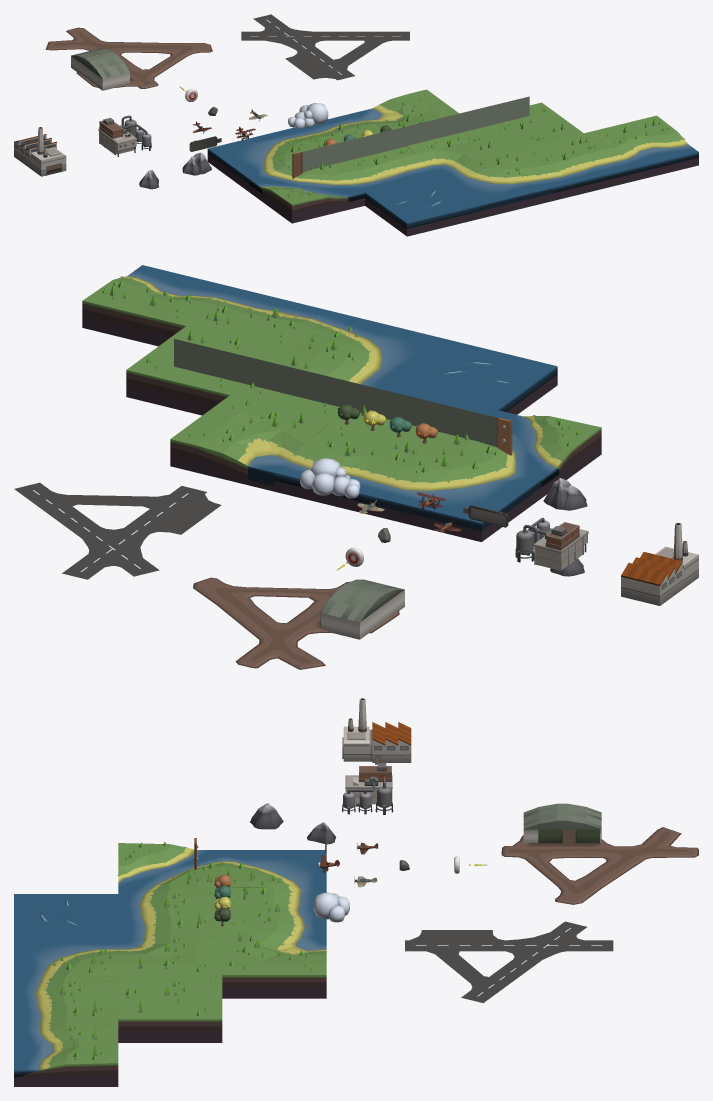
3 renders of one model, top to bottom at view 1: azimuth 30°, elevation 25°; view 2: azimuth 150°, elevation 25°; view 3: azimuth 270°, elevation 25°, orthographic. The views are drawn at different scales.
Visible parts, largest first — view 1: ui-border, t-wwww-1, t-gwgw-1, ct-gwwg-1.001, ct-gwwg-1.002, t-gwww-1, t-gwww-2, Plane.003, Plane, t-gwwg-1, t-ggwg-1, t-gggg-1.001 (+8 smaller); view 2: ui-border, t-gwww-2, t-ggwg-1.001, ct-gwwg-1.002, t-gwwg-1.001, t-wwww-1, t-gwgw-1, t-gggg-1.001, Plane.003, t-gwww-1, ct-gwwg-1.001, Plane (+9 smaller); view 3: t-gggg-1.001, t-ggwg-1.001, ct-gwwg-1.002, Plane.003, t-wwww-1, ct-gwwg-1.001, t-gwgw-1, t-gwwg-1, t-ggwg-1, t-gwww-1, t-gwwg-1.001, t-gwww-2 (+7 smaller).
Part boxes in pixels (bbox=[...]): ui-border: bbox=[292, 96, 529, 178]; t-wwww-1: bbox=[365, 174, 479, 236]; t-gwgw-1: bbox=[250, 162, 364, 223]; ct-gwwg-1.001: bbox=[511, 133, 625, 200]; ct-gwwg-1.002: bbox=[584, 115, 698, 182]; t-gwww-1: bbox=[438, 151, 552, 218]; t-gwww-2: bbox=[207, 131, 313, 192]; Plane.003: bbox=[45, 27, 212, 88]; Plane: bbox=[241, 14, 409, 80]; t-gwwg-1: bbox=[334, 146, 437, 192]; t-ggwg-1: bbox=[406, 128, 510, 174]; t-gggg-1.001: bbox=[480, 102, 583, 150]; ui-border: bbox=[174, 339, 512, 455]; t-gwww-2: bbox=[378, 446, 541, 541]; t-ggwg-1.001: bbox=[170, 395, 333, 491]; ct-gwwg-1.002: bbox=[82, 265, 245, 346]; t-gwwg-1.001: bbox=[274, 420, 436, 516]; t-wwww-1: bbox=[394, 341, 557, 414]; t-gwgw-1: bbox=[438, 410, 601, 497]; t-gggg-1.001: bbox=[126, 326, 289, 415]; Plane.003: bbox=[193, 577, 399, 669]; t-gwww-1: bbox=[290, 315, 453, 384]; ct-gwwg-1.001: bbox=[187, 290, 349, 351]; Plane: bbox=[14, 482, 206, 579]; t-gggg-1.001: bbox=[118, 975, 222, 1042]; t-ggwg-1.001: bbox=[222, 931, 326, 998]; ct-gwwg-1.002: bbox=[14, 1019, 118, 1086]; Plane.003: bbox=[501, 827, 698, 904]; t-wwww-1: bbox=[14, 894, 118, 938]; ct-gwwg-1.001: bbox=[14, 975, 118, 1026]; t-gwgw-1: bbox=[117, 842, 222, 893]; t-gwwg-1: bbox=[118, 887, 222, 938]; t-ggwg-1: bbox=[118, 931, 222, 974]; t-gwww-1: bbox=[14, 938, 118, 982]; t-gwwg-1.001: bbox=[222, 886, 326, 938]; t-gwww-2: bbox=[222, 850, 326, 893].
Bounding box in the file's own units: 57.64 × 7.02 × 52.57.
3 materials, 3 textured.
